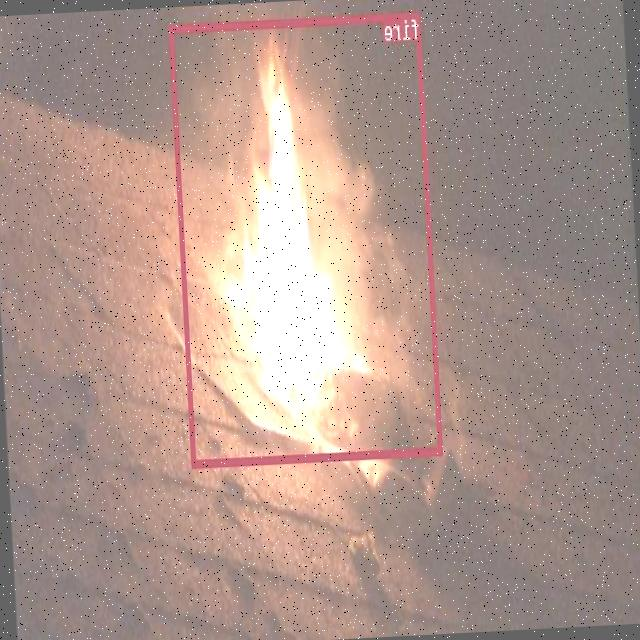fire: (169, 10, 443, 468)
